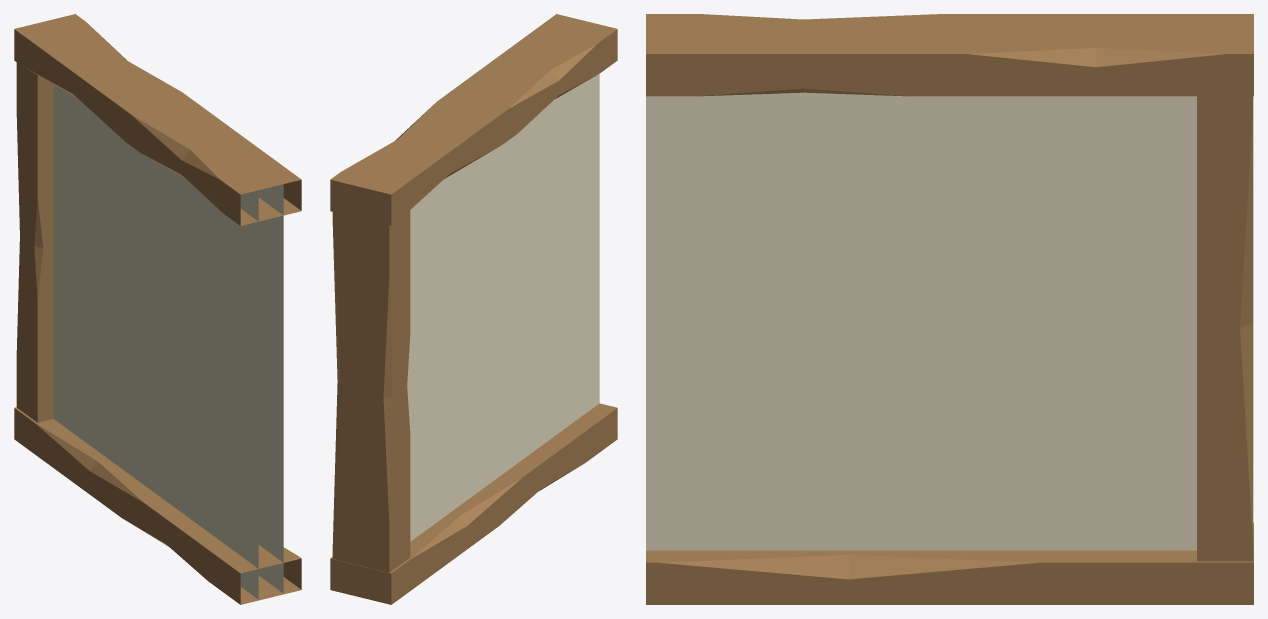
Rendered from SFV_Wall_Wooden_M_012.fbx.
The picture shows the model from 3 angles, left to right: view 1: azimuth 30°, elevation 25°; view 2: azimuth 150°, elevation 25°; view 3: azimuth 270°, elevation 25°; orthographic projection. The views are drawn at different scales.
Visible parts, largest first — view 1: SFV_Wall_Wooden_M_012; view 2: SFV_Wall_Wooden_M_012; view 3: SFV_Wall_Wooden_M_012.
Boxes of the visible parts, x1,y1,x2,y2 form: SFV_Wall_Wooden_M_012: (14,14,301,604); SFV_Wall_Wooden_M_012: (330,14,617,604); SFV_Wall_Wooden_M_012: (646,14,1253,604).
Bounding box in the file's own units: 46.87 × 300 × 300.
